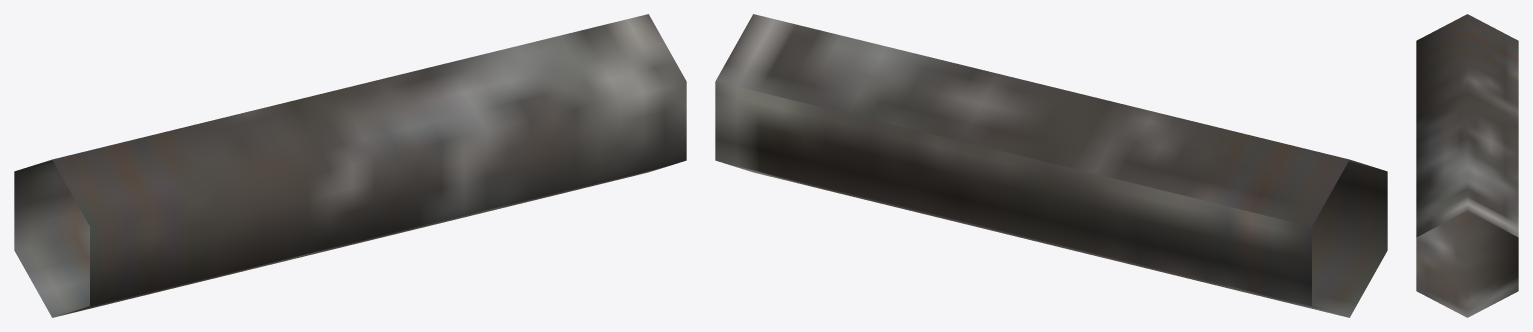
File: ThickPipe_02.FBX
3 views of the same model, side by side, from view 1: azimuth 30°, elevation 25°; view 2: azimuth 150°, elevation 25°; view 3: azimuth 270°, elevation 25° (orthographic). The views are drawn at different scales.
Visible parts, largest first — view 1: ThickPipe_02; view 2: ThickPipe_02; view 3: ThickPipe_02.
Part boxes in pixels (box(x1,y1,x2,y2)): ThickPipe_02: box(14, 14, 686, 317); ThickPipe_02: box(715, 14, 1387, 317); ThickPipe_02: box(1416, 14, 1518, 317).
Size of the model in its own units: 94.52 by 24 by 20.78.
